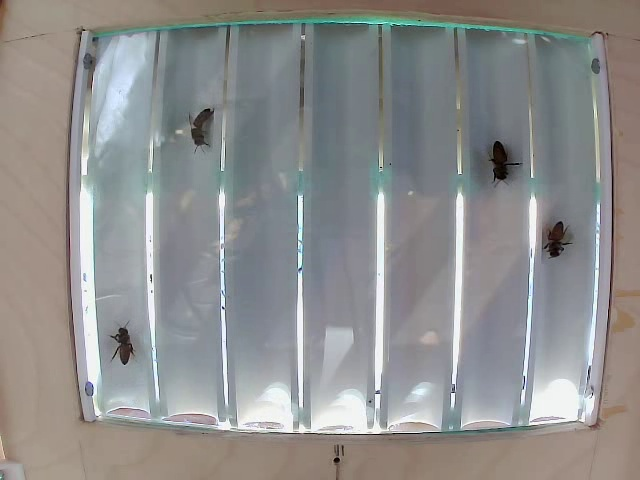bee: (188, 98, 229, 172), (478, 129, 518, 184), (541, 213, 575, 259), (107, 333, 139, 363)
